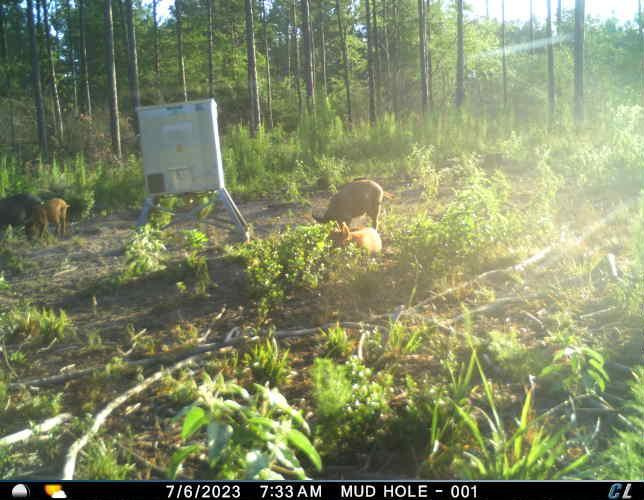Hog: (313, 176, 384, 233), (1, 192, 45, 249), (329, 220, 383, 254), (37, 197, 70, 241)
